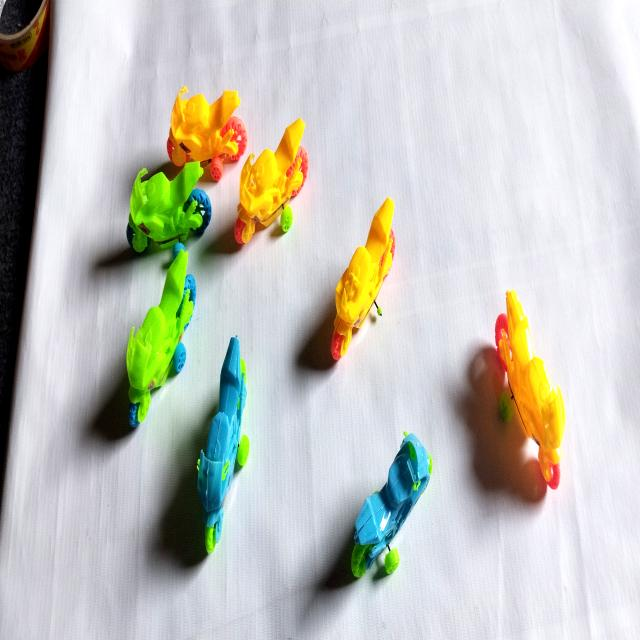bikes: (495, 290, 565, 489), (126, 248, 196, 426), (351, 433, 432, 578), (197, 337, 250, 553), (331, 198, 395, 360), (235, 119, 309, 244), (126, 162, 211, 260), (166, 87, 247, 182)
others: (0, 0, 50, 71)
